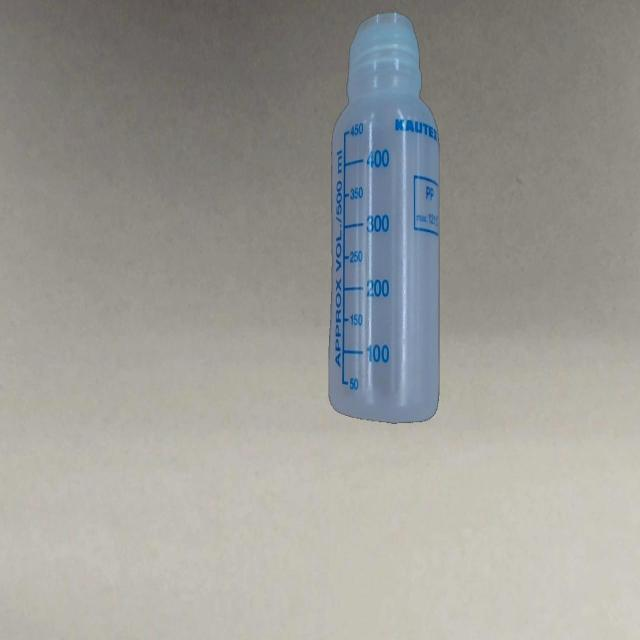bottle: (329, 10, 443, 428)
